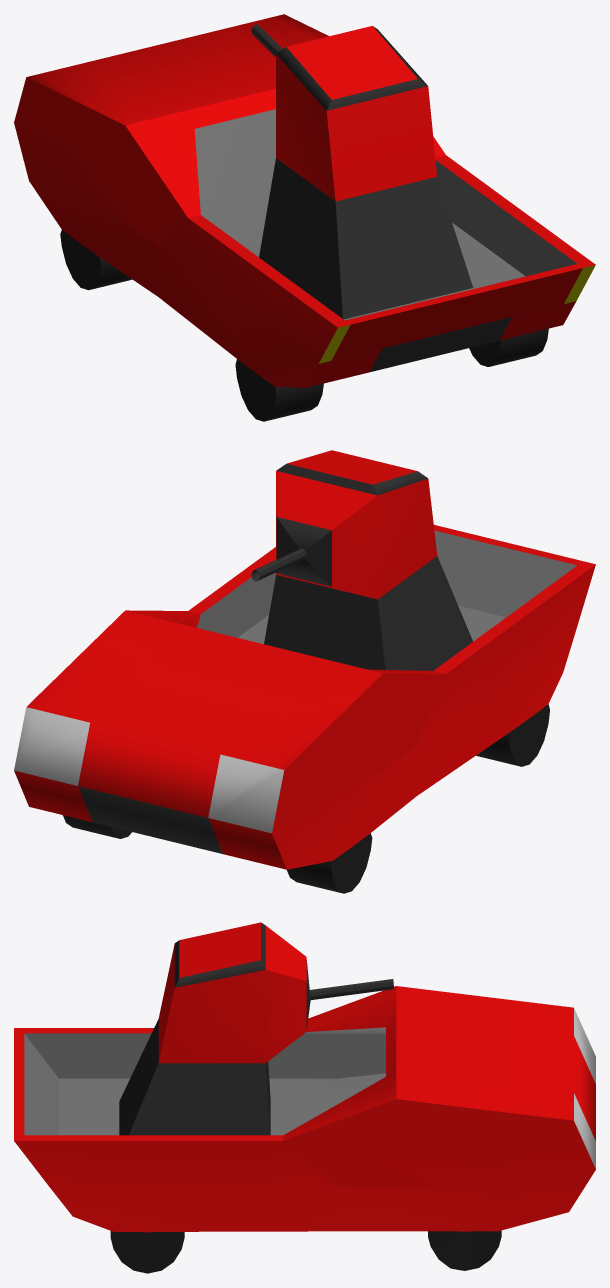
File: WarLightRed.fbx
3 renders of one model, top to bottom at view 1: azimuth 30°, elevation 25°; view 2: azimuth 150°, elevation 25°; view 3: azimuth 270°, elevation 25°, orthographic. The views are drawn at different scales.
Visible parts, largest first — view 1: pCylinder6; view 2: pCylinder6; view 3: pCylinder6.
Boxes of the visible parts, x1,y1,x2,y2 form: pCylinder6: [14, 14, 595, 421]; pCylinder6: [14, 450, 595, 893]; pCylinder6: [14, 922, 595, 1273].
Size of the model in its own units: 2.1 by 2.23 by 4.31.
